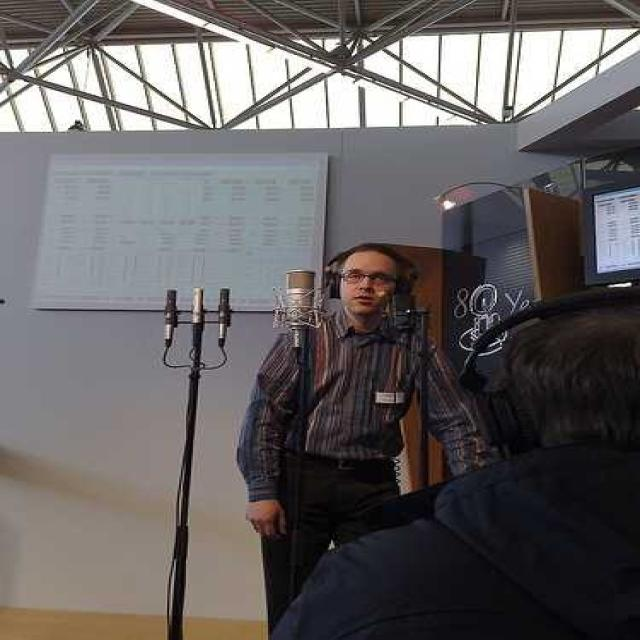microphone: (282, 270, 315, 355), (392, 292, 416, 331), (165, 289, 178, 313), (219, 288, 230, 313)
